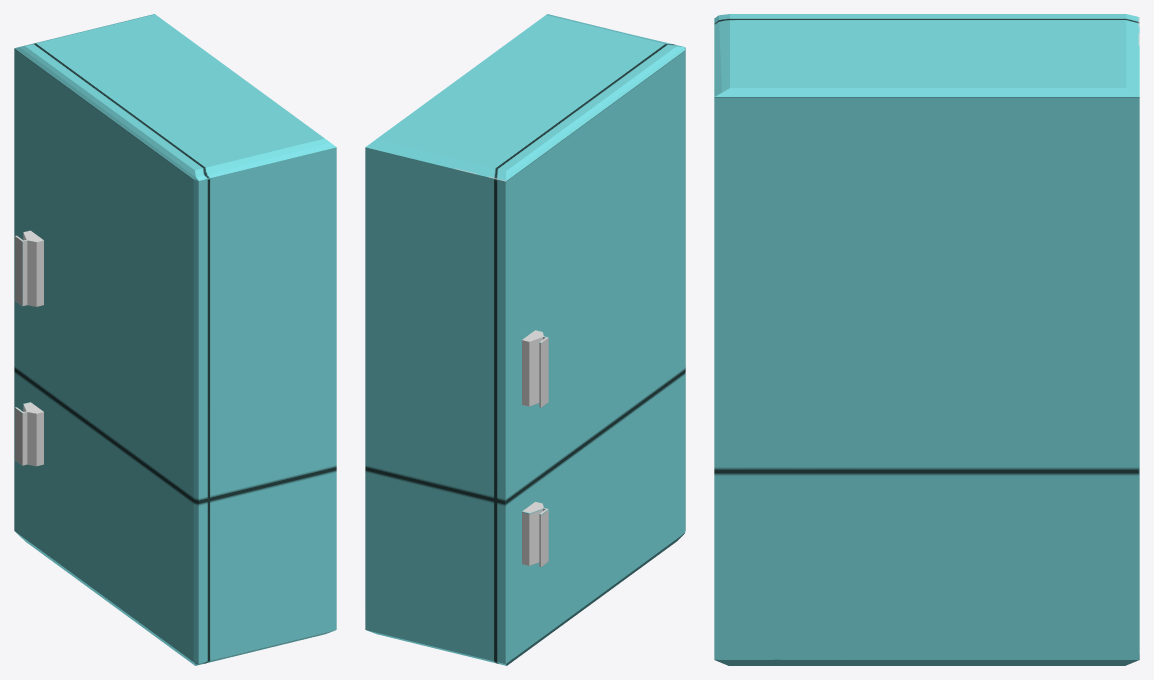
Rendered from Refregirateur.fbx.
3 renders of one model, left to right at view 1: azimuth 30°, elevation 25°; view 2: azimuth 150°, elevation 25°; view 3: azimuth 270°, elevation 25°, orthographic. The views are drawn at different scales.
Visible parts, largest first — view 1: Réfrigérateur; view 2: Réfrigérateur; view 3: Réfrigérateur.
Boxes of the visible parts, bbox=[...] form: Réfrigérateur: bbox=[14, 14, 336, 665]; Réfrigérateur: bbox=[365, 14, 685, 665]; Réfrigérateur: bbox=[714, 14, 1139, 665].
Size of the model in its own units: 50 by 150 by 100.
1 material, 1 textured.
